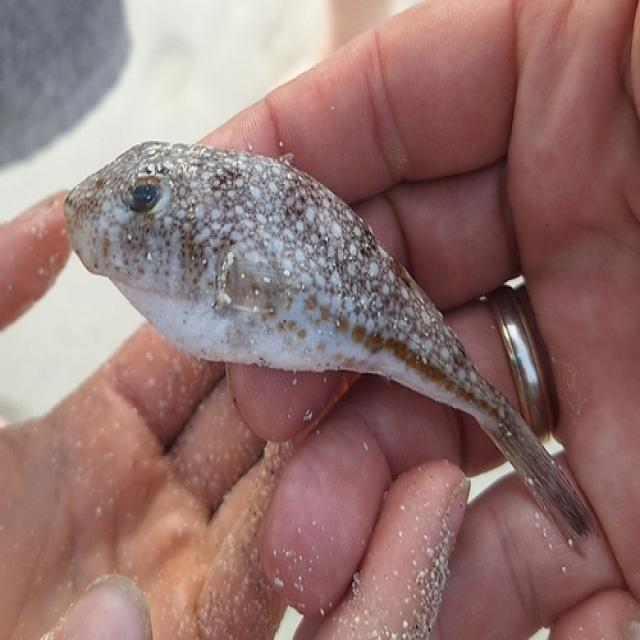Balik: (64, 143, 593, 548)
